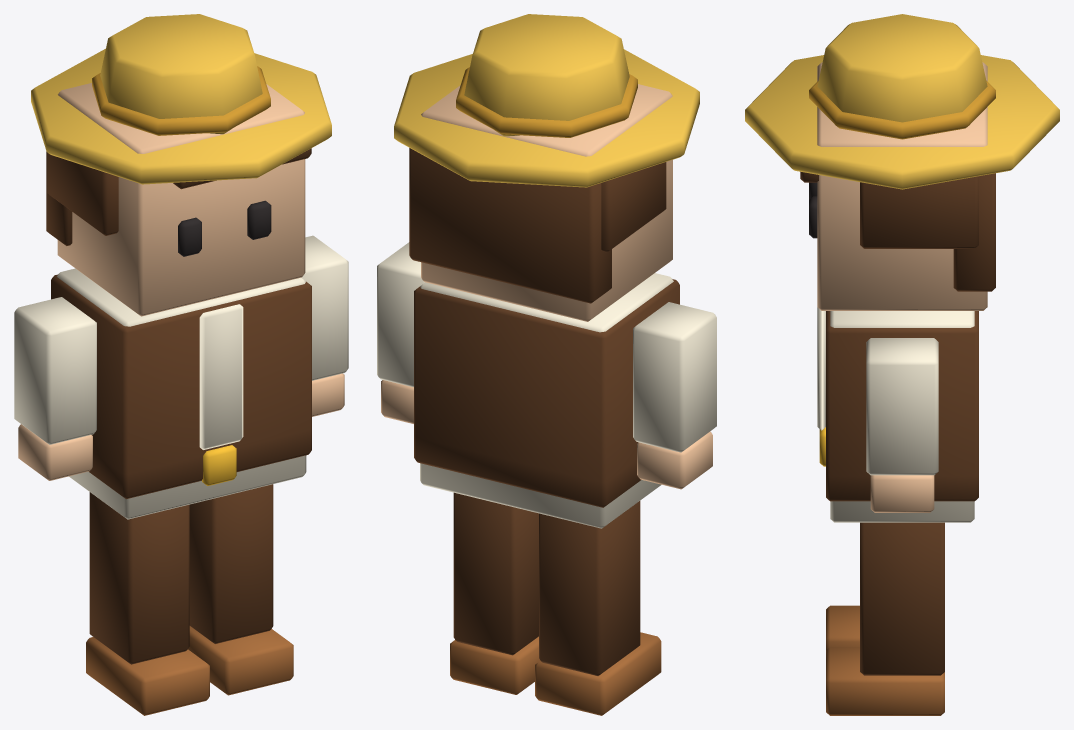
File: H_MedPeasantMale.fbx
3 views of the same model, side by side, from view 1: azimuth 30°, elevation 25°; view 2: azimuth 150°, elevation 25°; view 3: azimuth 270°, elevation 25° (orthographic).
Visible parts, largest first — view 1: M_PeasantMale; view 2: M_PeasantMale; view 3: M_PeasantMale.
Boxes of the visible parts, x1,y1,x2,y2 form: M_PeasantMale: (14,14,348,715); M_PeasantMale: (377,14,716,715); M_PeasantMale: (745,14,1059,715).
Size of the model in its own units: 0.83 by 1.65 by 0.74.
Materials: 1 (1 with a texture image).
